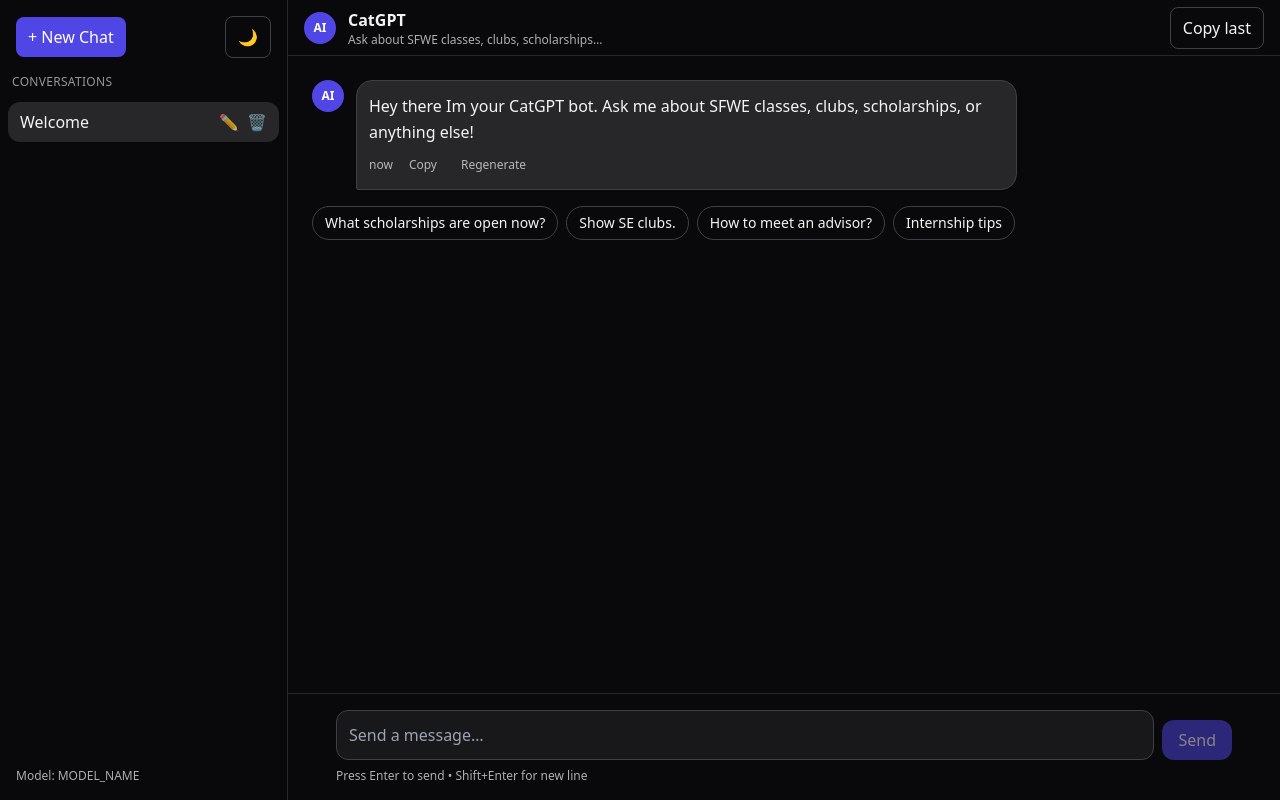
ChatbotUI › Sending Messages › should handle API errors gracefully
This screenshot has width=1280, height=800.
In the text box with placeholder "Send a message…": (745, 735) x1=336 y1=710 x2=1154 y2=760, type "Test"
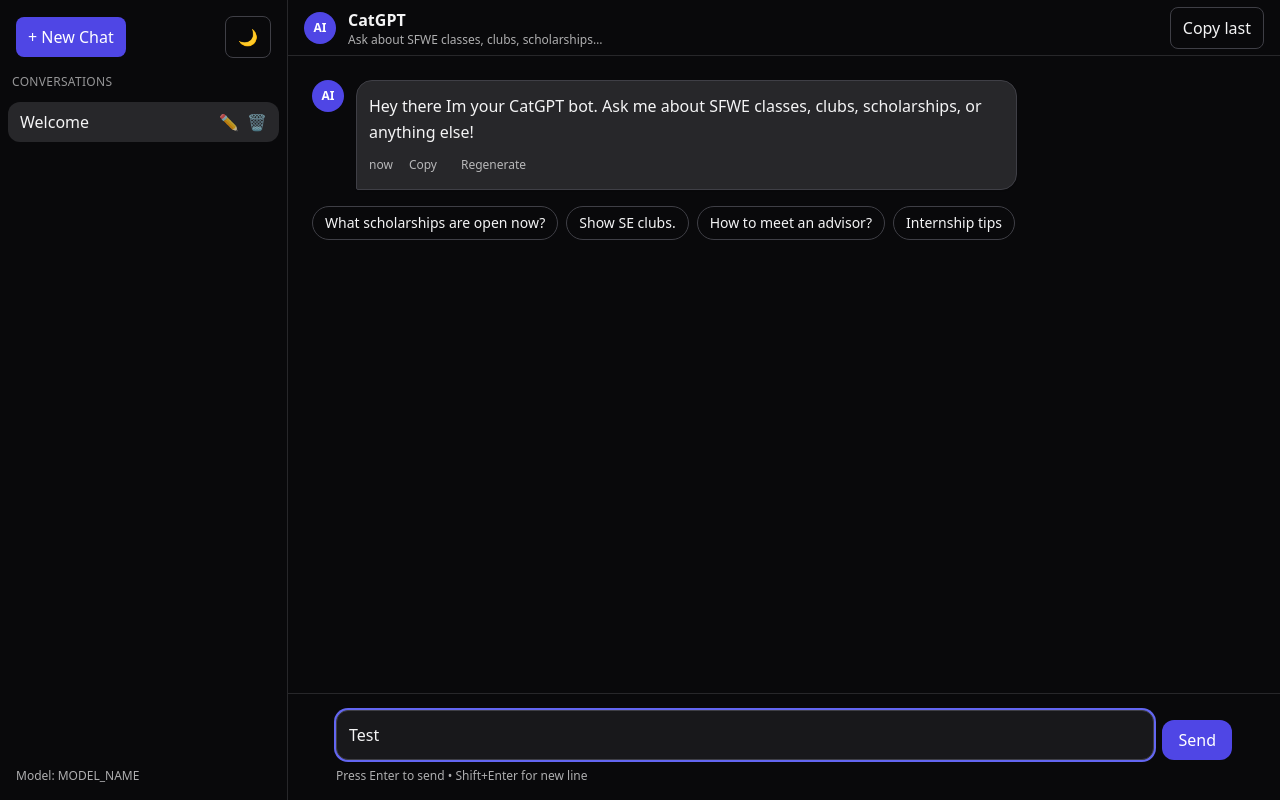
Click the button "Send": (1197, 740) x1=1162 y1=720 x2=1232 y2=760
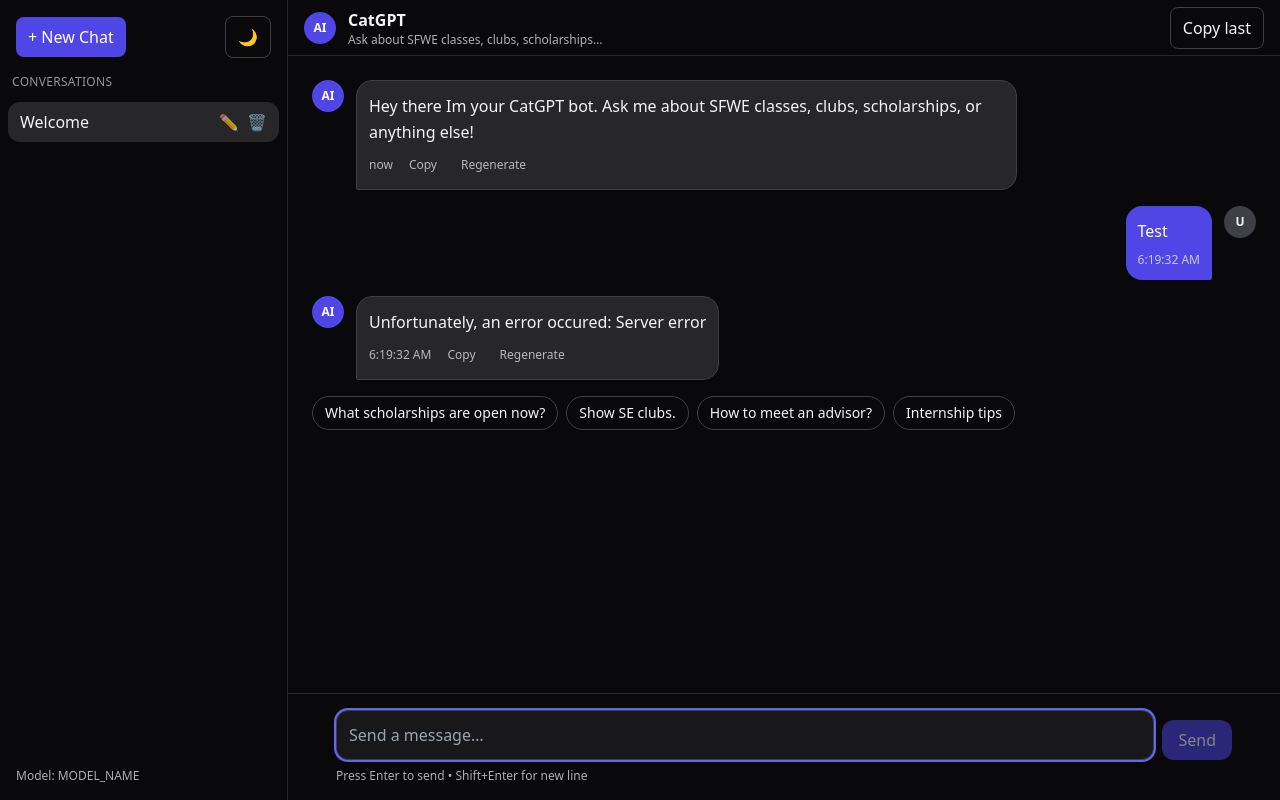
Now the text "Unfortunately, an error occured: Server error" is shown, box x1=369 y1=309 x2=706 y2=335
